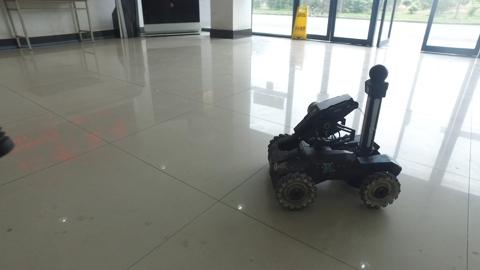chariot: (266, 63, 402, 211)
